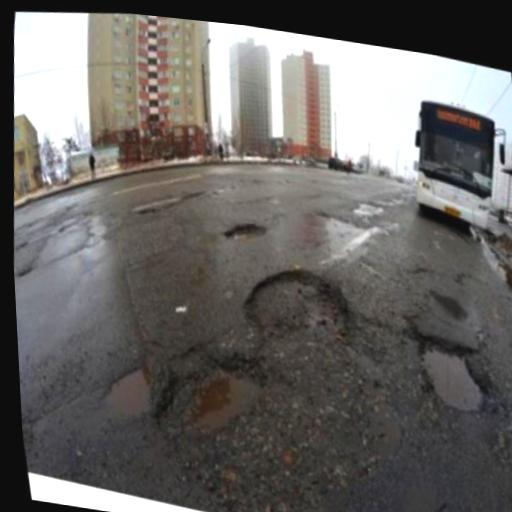pothole: (203, 166, 512, 507), (173, 142, 474, 410), (133, 175, 354, 512), (132, 123, 398, 351)
